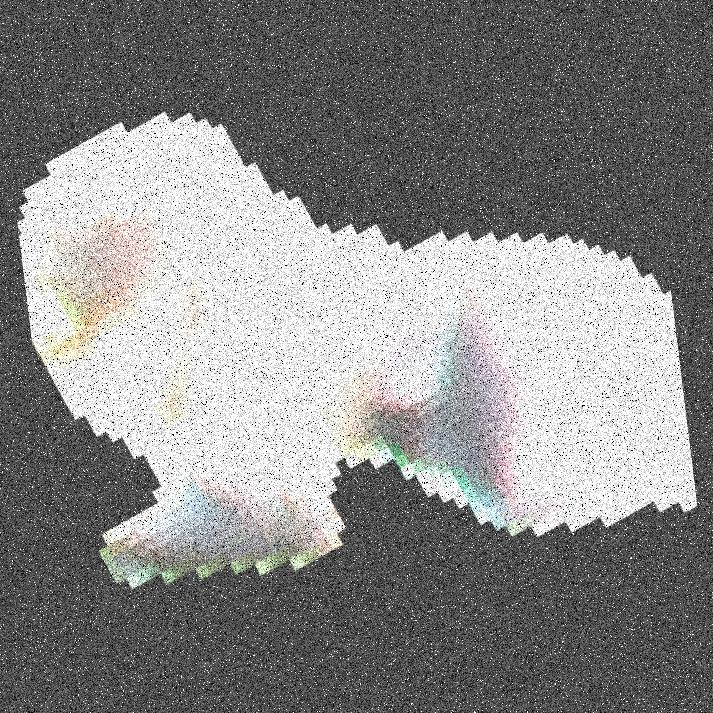Pessoa: (652, 0, 712, 712)
